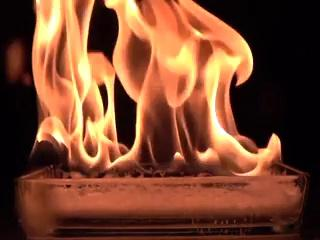Fire: (19, 1, 287, 181)
